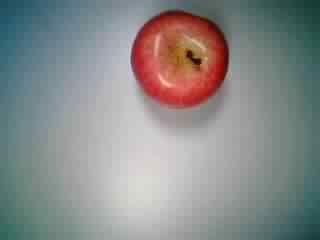apple: (128, 9, 232, 110)
